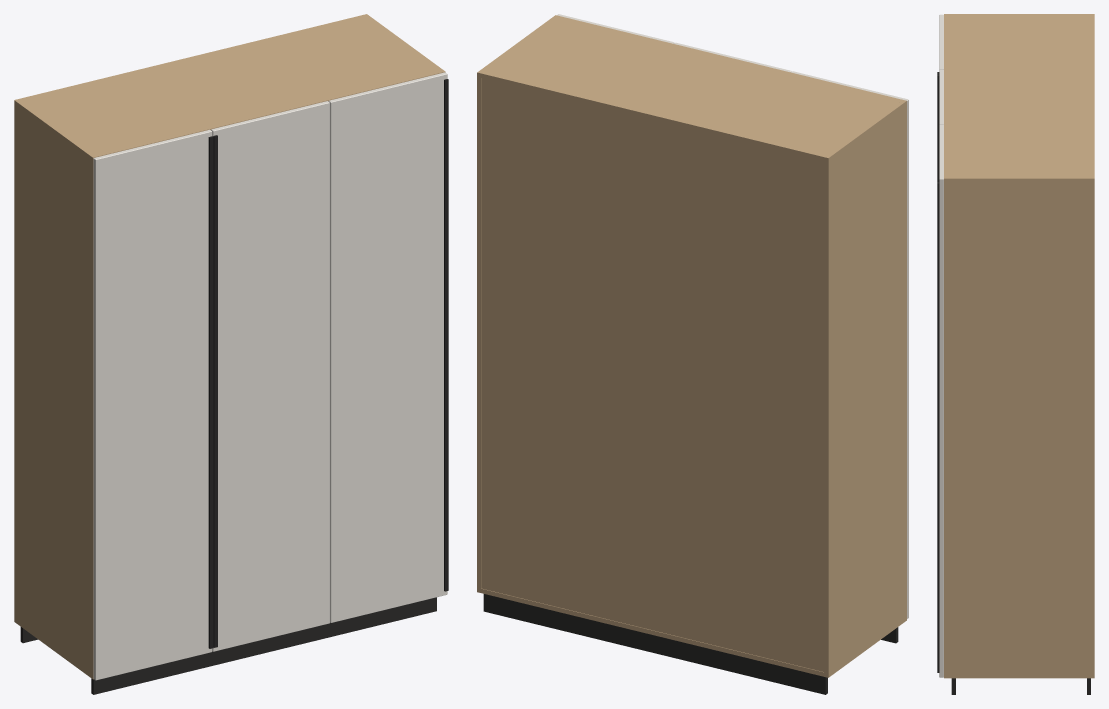
File: 23_szafa_profil_150.glb
3 views of the same model, side by side, from view 1: azimuth 30°, elevation 25°; view 2: azimuth 150°, elevation 25°; view 3: azimuth 270°, elevation 25° (orthographic). The views are drawn at different scales.
Visible parts, largest first — view 1: Korpus, Front_drzwi_1, Front_drzwi_3, Front_drzwi_2, Uchwyty, Cokol; view 2: Korpus, Cokol, Front_drzwi_1; view 3: Korpus, Front_drzwi_3, Uchwyty, Front_drzwi_2, Front_drzwi_1.
Boxes of the visible parts, <box> form: Korpus: <box>14,14,445,679</box>; Front_drzwi_1: <box>93,129,212,680</box>; Front_drzwi_3: <box>328,72,447,622</box>; Front_drzwi_2: <box>211,101,329,651</box>; Uchwyty: <box>208,79,448,648</box>; Cokol: <box>20,597,436,694</box>; Korpus: <box>477,15,906,677</box>; Cokol: <box>483,594,898,694</box>; Front_drzwi_1: <box>791,71,908,618</box>; Korpus: <box>944,14,1094,678</box>; Front_drzwi_3: <box>939,124,943,677</box>; Uchwyty: <box>937,72,939,672</box>; Front_drzwi_2: <box>939,69,943,124</box>; Front_drzwi_1: <box>939,14,943,69</box>.
Size of the model in its own units: 1.5 by 2.2 by 0.606.
